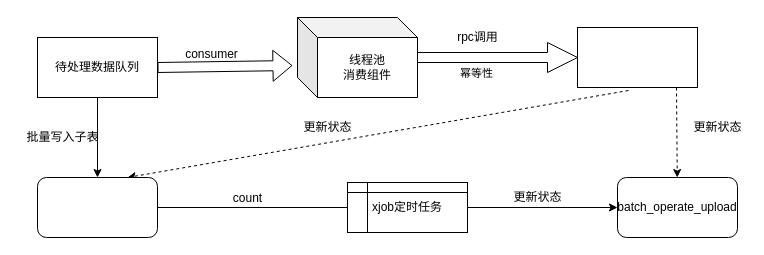
The diagram is 764 pixels wide and 255 high, and some of its shapes have lost their labels. The centre of each missing label's shape, as x and y in pixels:
"batch_operate_sub" goes at (x=97, y=207).
"明细处理" goes at (x=637, y=57).
